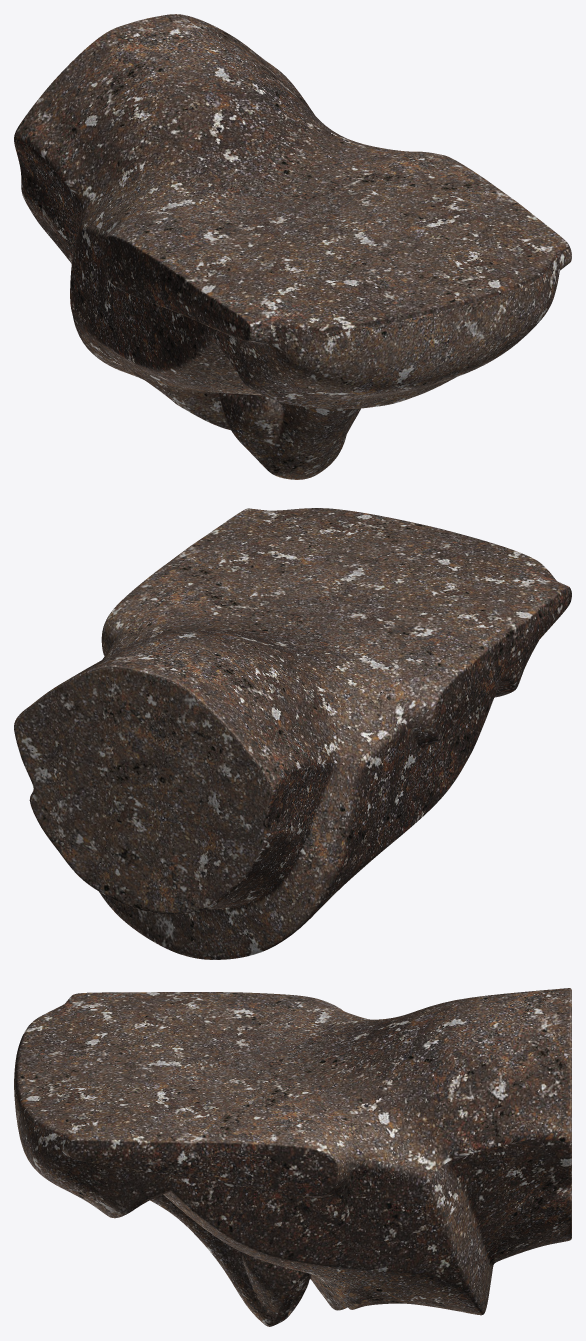
File: moyai.glb
3 renders of one model, top to bottom at view 1: azimuth 30°, elevation 25°; view 2: azimuth 150°, elevation 25°; view 3: azimuth 270°, elevation 25°, orthographic. The views are drawn at different scales.
Visible parts, largest first — view 1: 12329_Statue_v1_l3; view 2: 12329_Statue_v1_l3; view 3: 12329_Statue_v1_l3.
Boxes of the visible parts, left/top/right/bottom form: 12329_Statue_v1_l3: left=14, top=14, right=571, bottom=479; 12329_Statue_v1_l3: left=14, top=508, right=571, bottom=959; 12329_Statue_v1_l3: left=14, top=988, right=571, bottom=1326.
Bounding box in the file's own units: 168 × 163 × 258.
Materials: 1 (1 with a texture image).
